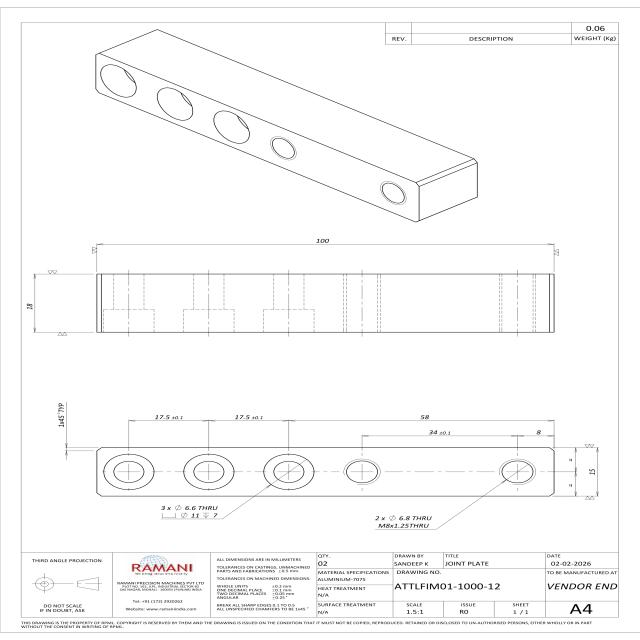dimension: (158, 504, 220, 519), (374, 515, 434, 529), (56, 402, 66, 428), (153, 414, 184, 420), (234, 414, 265, 420), (428, 430, 452, 436), (315, 236, 330, 244), (587, 467, 597, 475), (24, 303, 35, 310), (419, 414, 430, 421), (534, 430, 543, 435)
